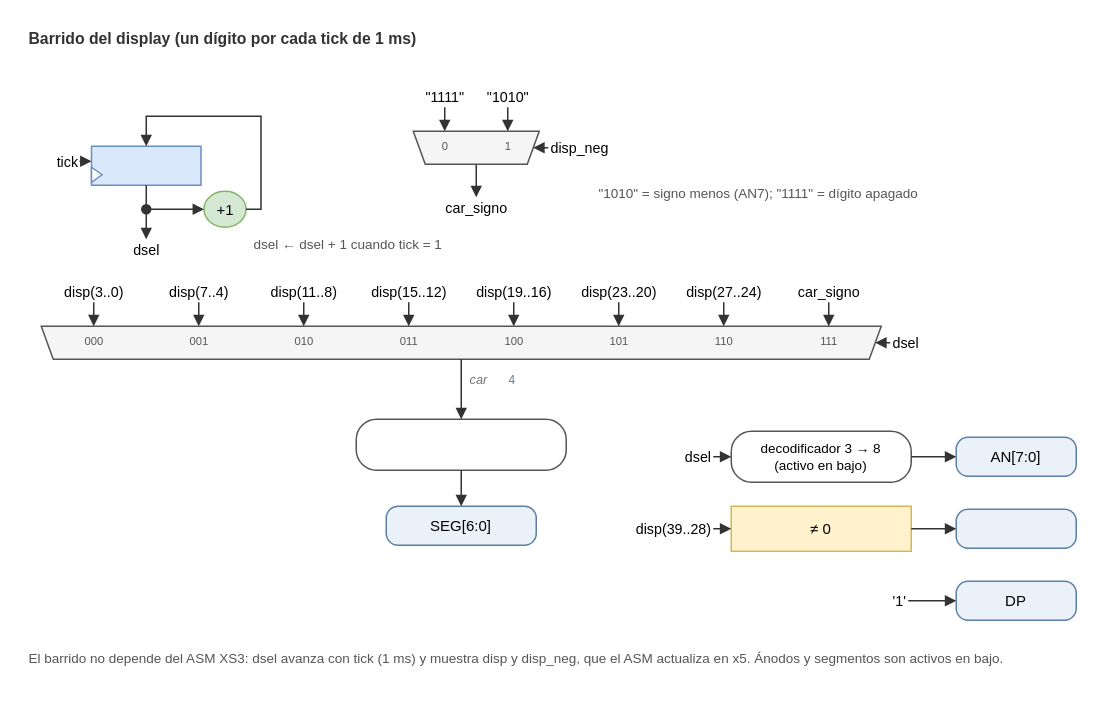
This 1103x708 diagram has some shape labels left out. Here are the shapes that lost their labels. From the top down, the box of each, then its label:
(90, 145, 201, 185): dsel (3)
(355, 418, 566, 470): decodificador 7 segmentos
(955, 508, 1076, 548): DESBORDE
